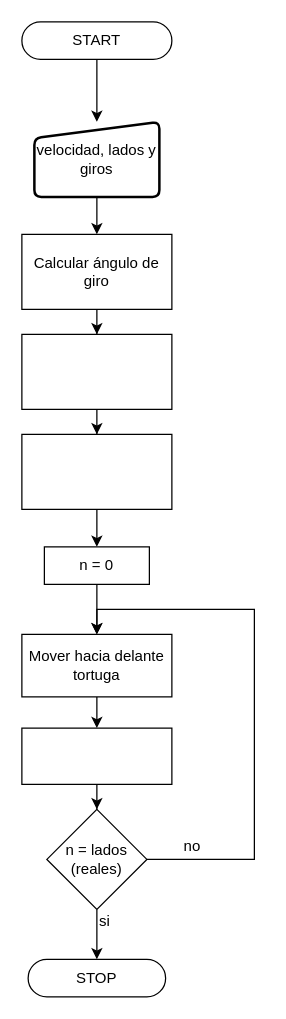
Some shapes in this 286 by 1019 pixel diagram are drawn without their labels. The shapes that lost their labels are listed below. From the top down, each one's centre as x and y in pixels, then its label:
At point 96,371: "Calcular diametro de la estrella".
At point 96,471: "Mover tortuga a posición inicial".
At point 96,755: "Girar x grados (ya calculados)".
